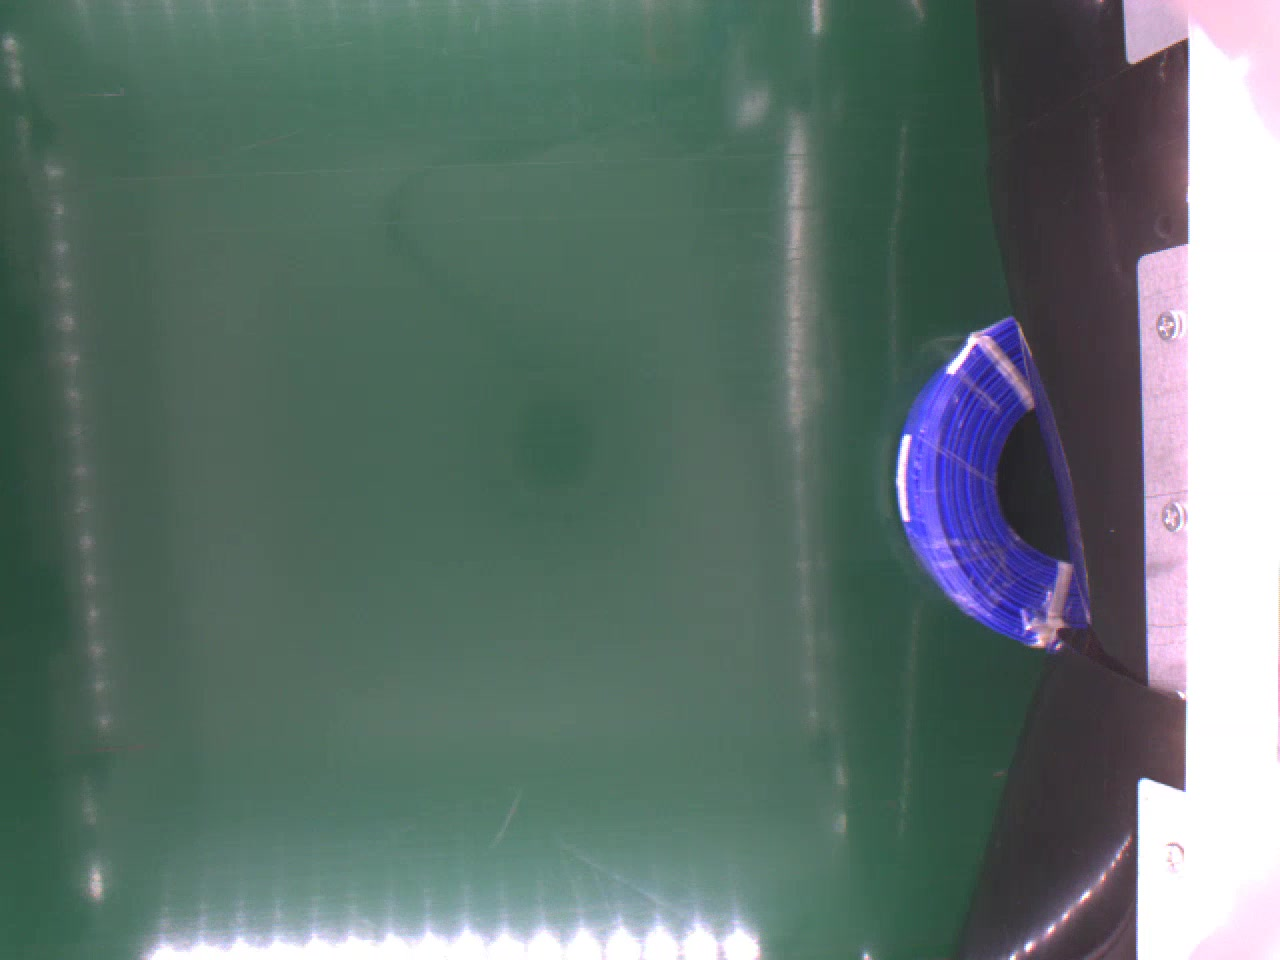blue: (894, 313, 1087, 653)
